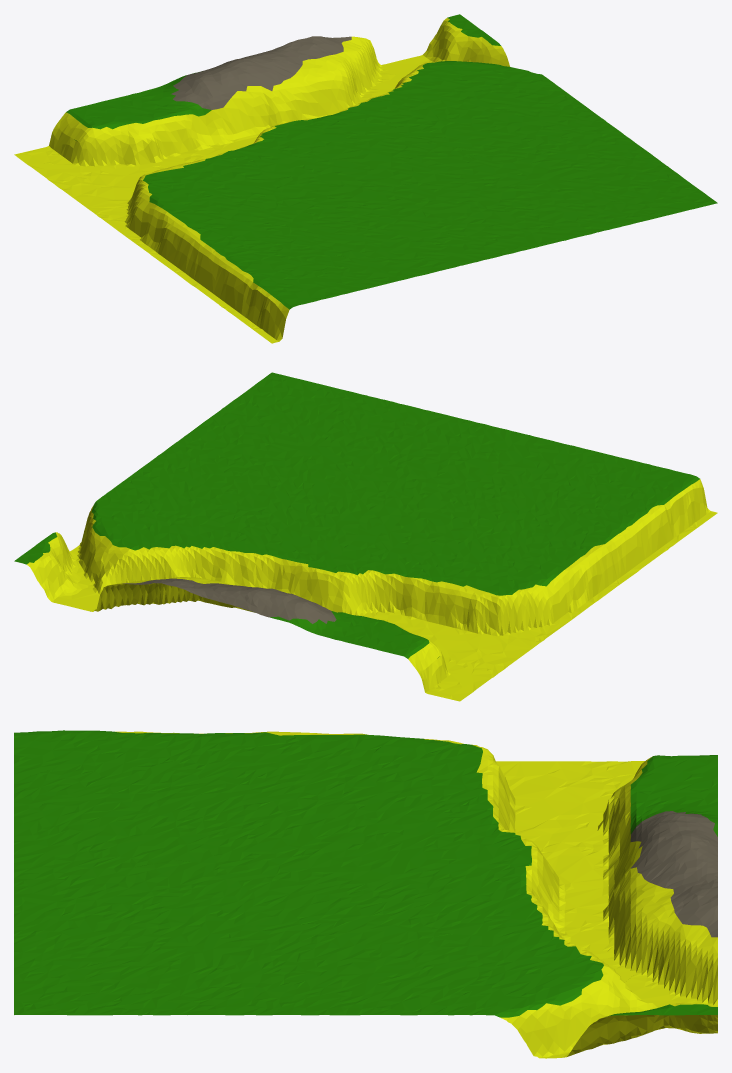
The picture shows the model from 3 angles, top to bottom: view 1: azimuth 30°, elevation 25°; view 2: azimuth 150°, elevation 25°; view 3: azimuth 270°, elevation 25°; orthographic projection. The views are drawn at different scales.
Parts seen in each view (by area): view 1: TerrainVeryHigh.004; view 2: TerrainVeryHigh.004; view 3: TerrainVeryHigh.004.
Part boxes in pixels (x1,y1,x2,y2): TerrainVeryHigh.004: (14,14,717,343); TerrainVeryHigh.004: (14,372,717,701); TerrainVeryHigh.004: (14,730,717,1058).
Size of the model in its own units: 1247 by 1249 by 133.
